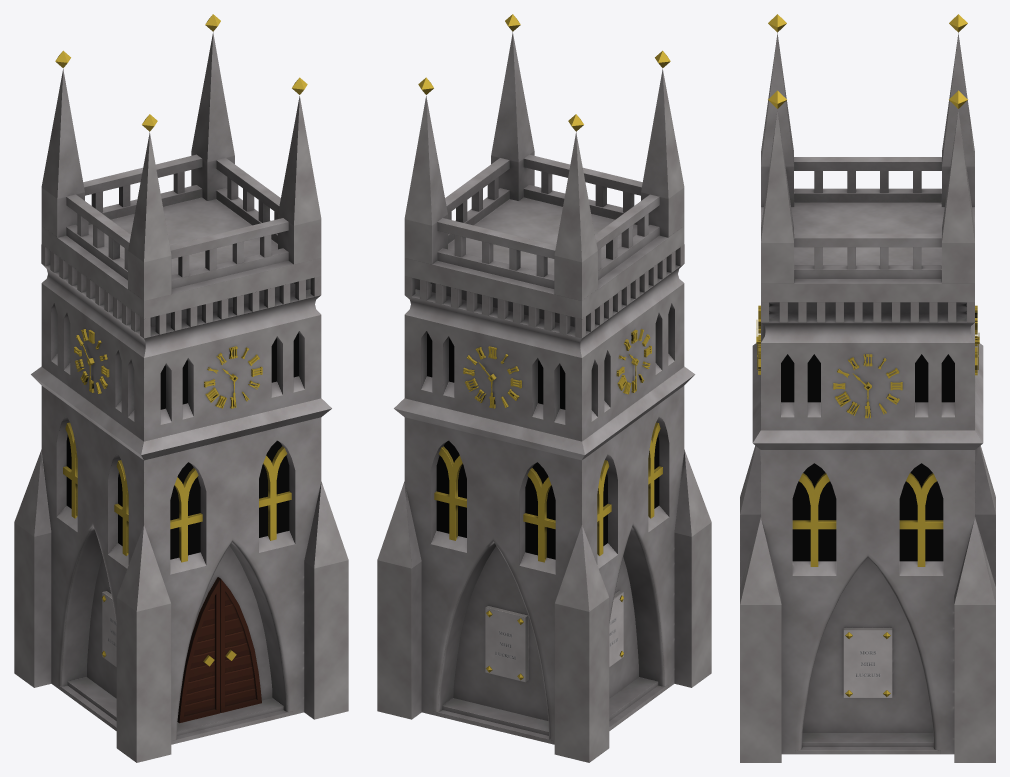
Rendered from Priest Tower.FBX.
3 renders of one model, left to right at view 1: azimuth 30°, elevation 25°; view 2: azimuth 150°, elevation 25°; view 3: azimuth 270°, elevation 25°, orthographic. The views are drawn at different scales.
Visible parts, largest first — view 1: Balustrade; view 2: Balustrade; view 3: Balustrade.
Part boxes in pixels (left/top/right/bottom): Balustrade: left=14, top=14, right=348, bottom=762; Balustrade: left=377, top=14, right=711, bottom=762; Balustrade: left=740, top=14, right=995, bottom=762.
Size of the model in its own units: 5.26 by 14.9 by 5.26.
